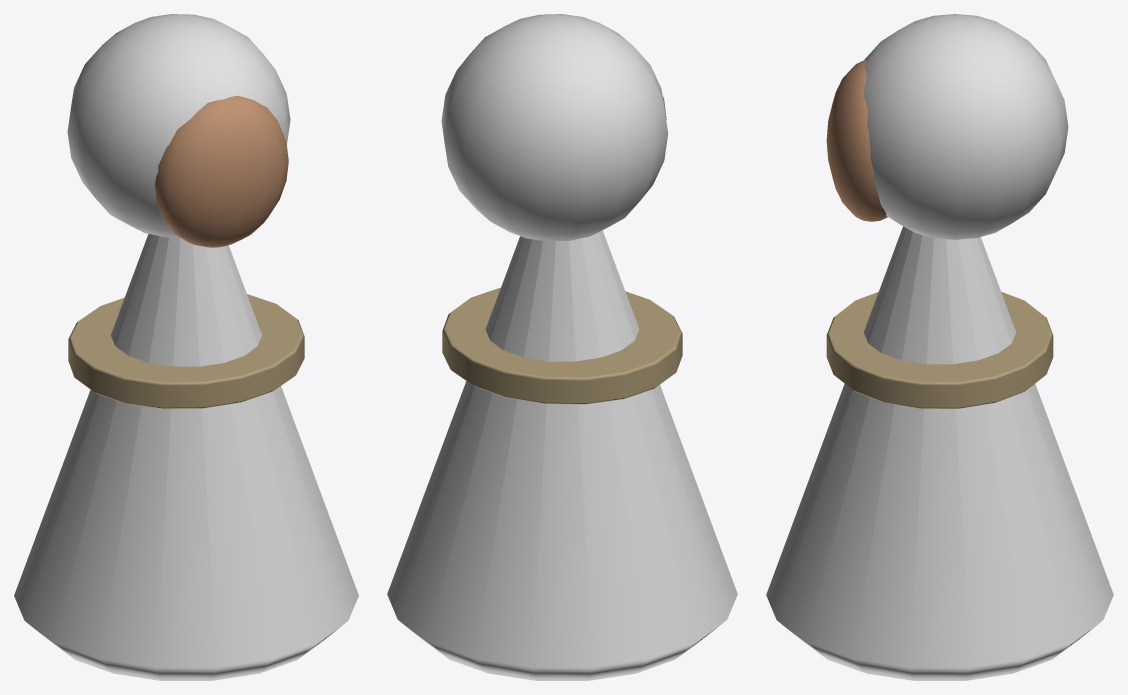
File: monk.dd83adfd.glb
The picture shows the model from 3 angles, left to right: view 1: azimuth 30°, elevation 25°; view 2: azimuth 150°, elevation 25°; view 3: azimuth 270°, elevation 25°; orthographic projection.
Parts seen in each view (by area): view 1: accent, body; view 2: accent, body; view 3: accent, body.
Part boxes in pixels (bbox=[...]): accent: bbox=[14, 14, 358, 680]; body: bbox=[68, 95, 304, 408]; accent: bbox=[387, 14, 737, 680]; body: bbox=[442, 96, 682, 404]; accent: bbox=[766, 14, 1113, 680]; body: bbox=[826, 60, 1053, 408].
Bounding box in the file's own units: 0.453 × 0.87 × 0.46.
